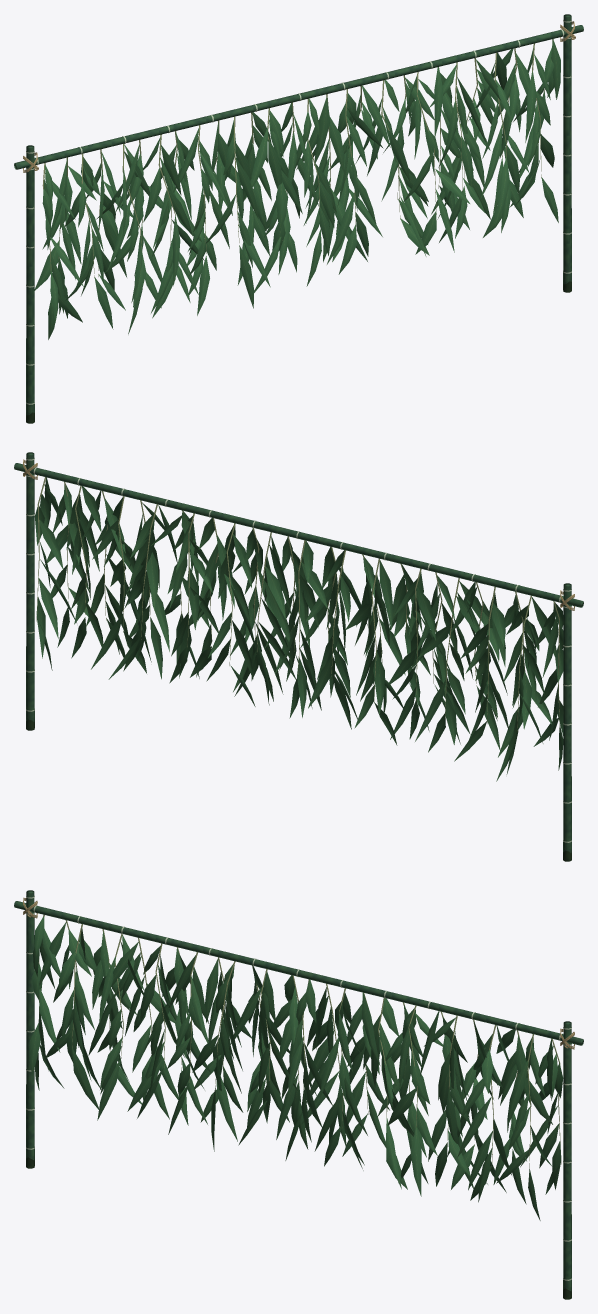
The model's file is nyanisyarud-bamboo-sasa-gate-a.glb.
3 views of the same model, one above another, from view 1: azimuth 30°, elevation 25°; view 2: azimuth 150°, elevation 25°; view 3: azimuth 330°, elevation 25° (orthographic).
Parts seen in each view (by area): view 1: Silken bamboo leaves, Jade bamboo, Slender hanging twigs; view 2: Silken bamboo leaves, Jade bamboo, Slender hanging twigs; view 3: Silken bamboo leaves, Jade bamboo, Slender hanging twigs.
Part boxes in pixels (x1,y1,x2,y2): Silken bamboo leaves: (34, 39, 560, 339); Jade bamboo: (14, 14, 583, 415); Slender hanging twigs: (42, 39, 553, 277); Silken bamboo leaves: (34, 477, 563, 781); Jade bamboo: (14, 452, 583, 852); Slender hanging twigs: (36, 477, 559, 732); Silken bamboo leaves: (29, 917, 563, 1220); Jade bamboo: (14, 890, 583, 1291); Slender hanging twigs: (38, 915, 561, 1168).
Bounding box in the file's own units: 9.7 × 4.5 × 1.13.
6 materials, 4 textured.
